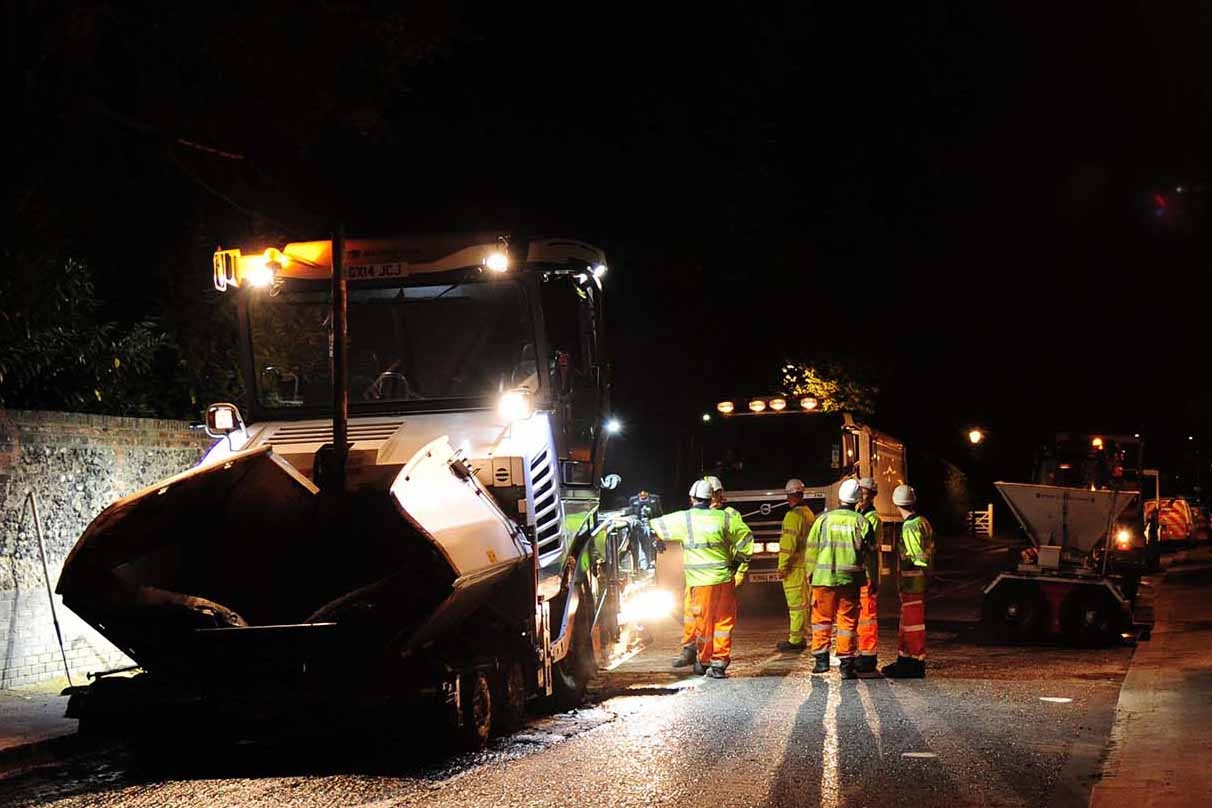white: (891, 484, 917, 516), (836, 478, 861, 508), (688, 479, 713, 508), (783, 478, 806, 505), (858, 477, 878, 506), (706, 474, 724, 502)
